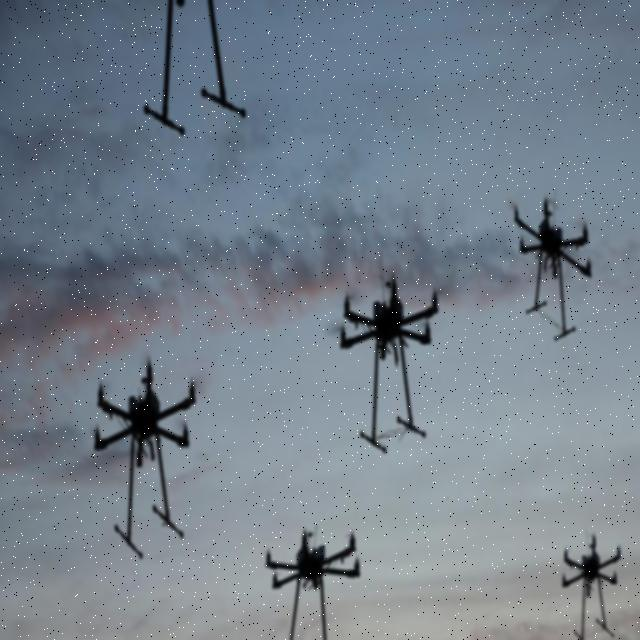UAV: (92, 370, 198, 568), (338, 265, 438, 460), (514, 199, 594, 346), (263, 525, 359, 637), (562, 530, 622, 640)
